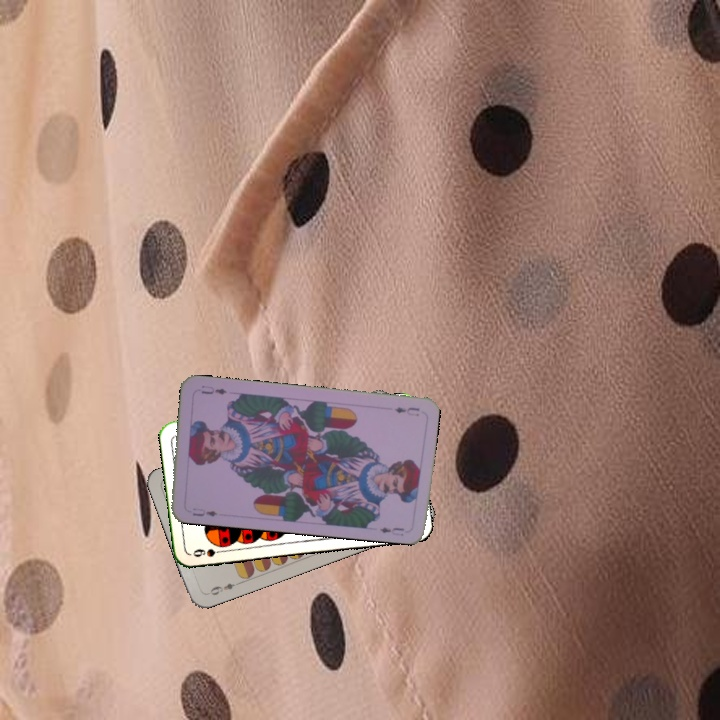E9: (203, 578, 242, 598)
EU: (391, 403, 422, 419), (188, 504, 220, 519)
S9: (189, 540, 229, 560)
